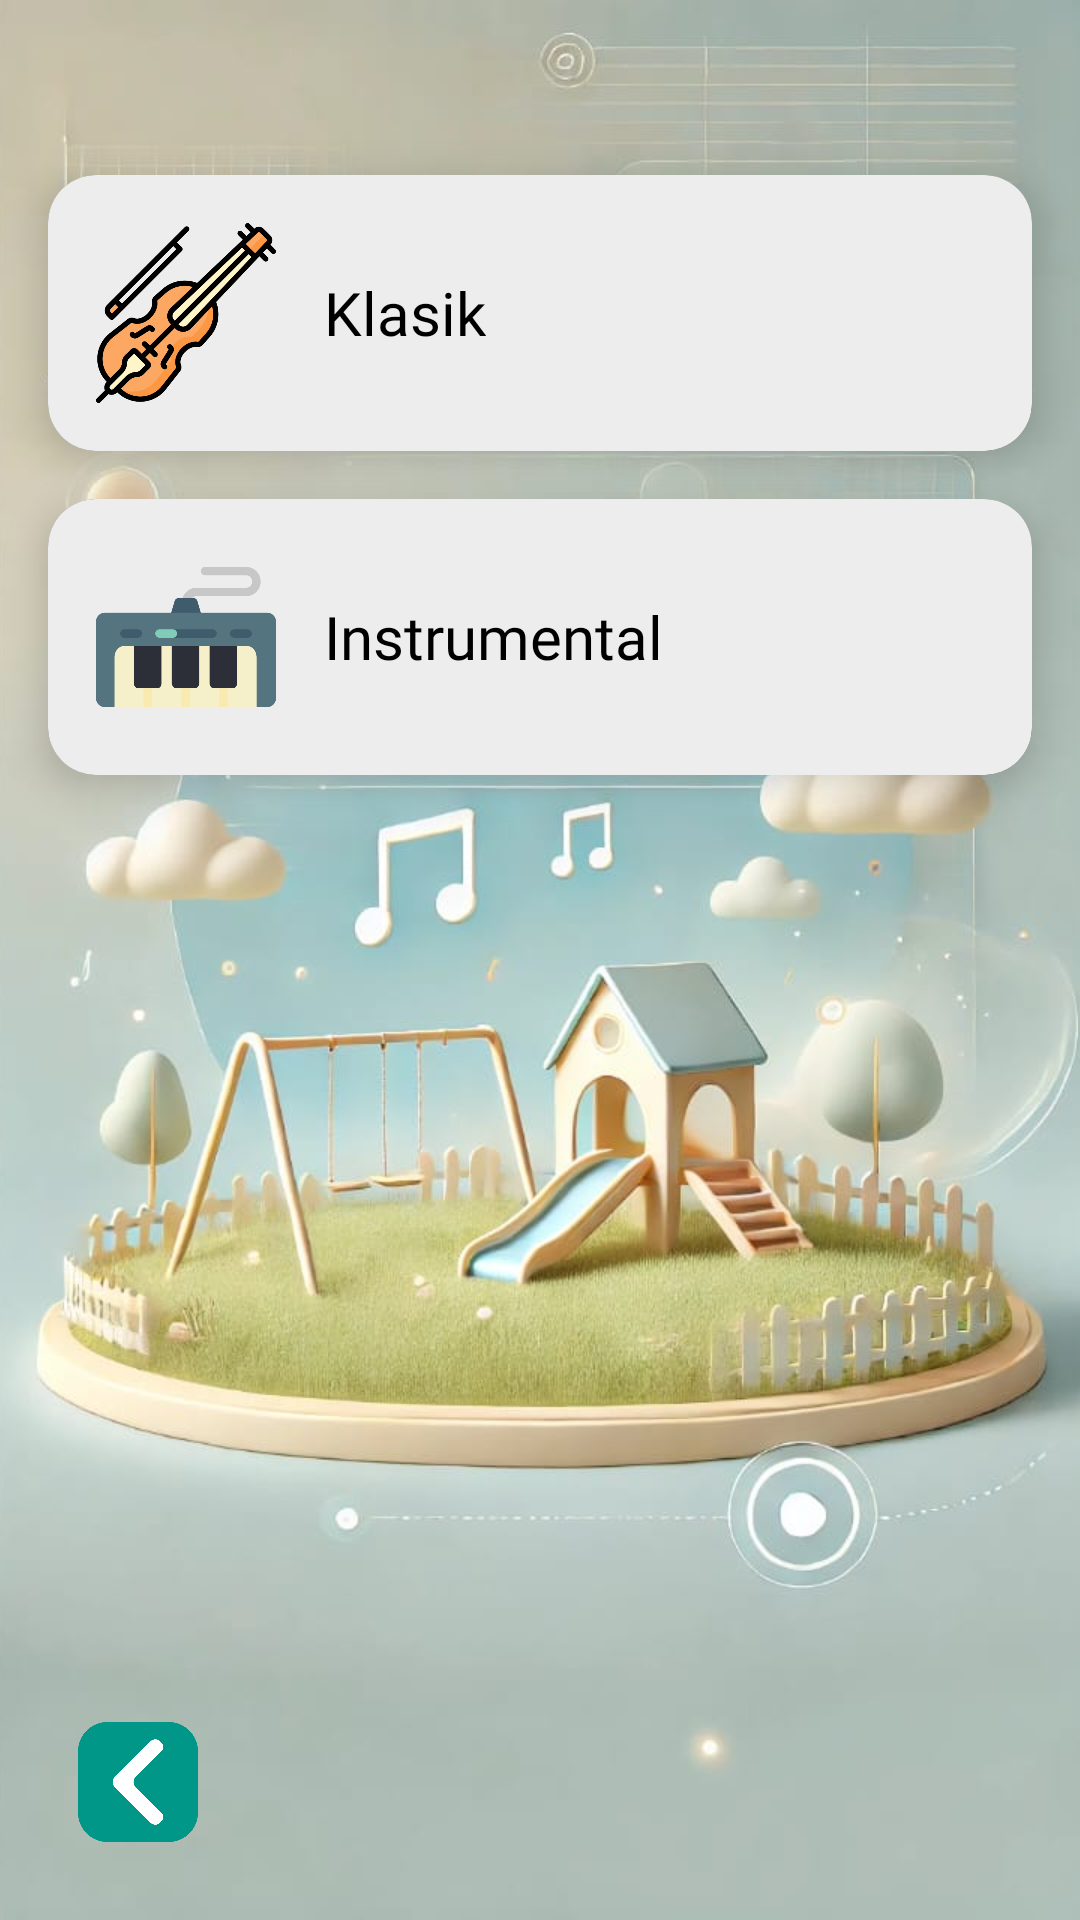

Where to tap for icons on this 1080x1920 app screen, as [x,y]:
Back Button: [138,1782]
piano: [186,637]
